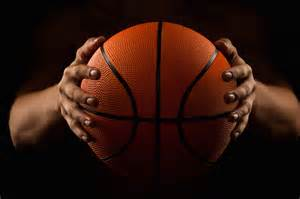basketball: (78, 22, 240, 181)
